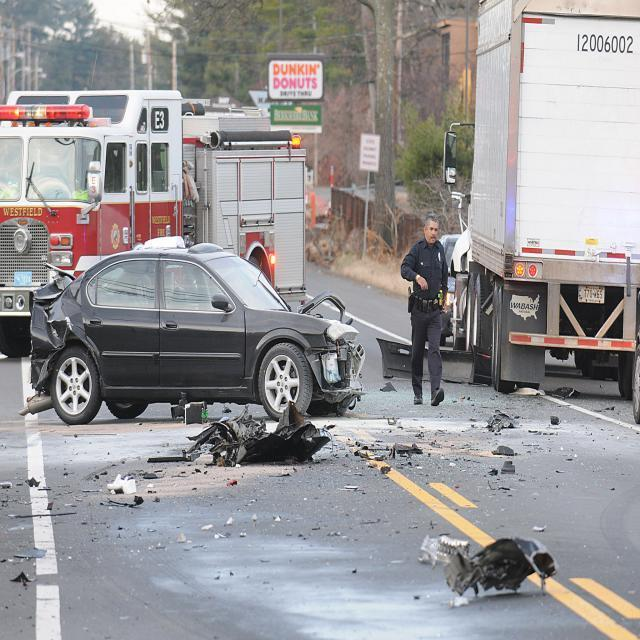accident: (19, 233, 375, 509)
